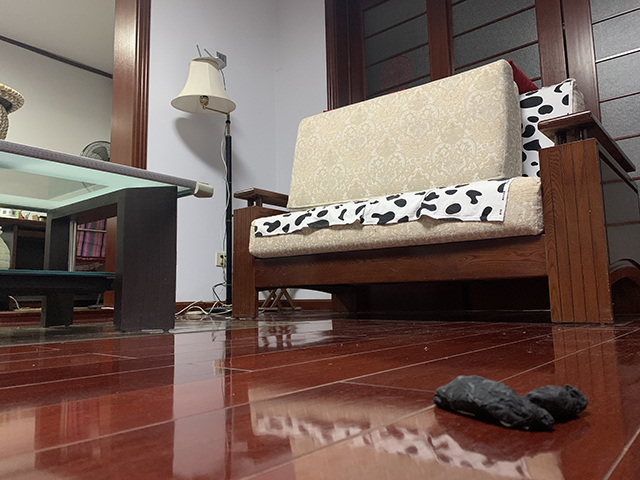feces: (431, 373, 591, 434)
sofa: (227, 56, 639, 325)
table: (1, 140, 216, 336)
wire: (175, 126, 233, 323)
